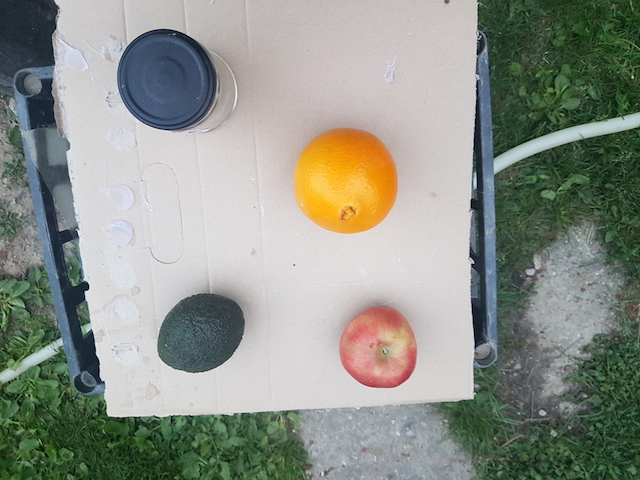apple: (339, 307, 421, 394)
avocado: (152, 293, 246, 374)
orange: (292, 128, 398, 234)
recipient: (120, 29, 215, 135)
